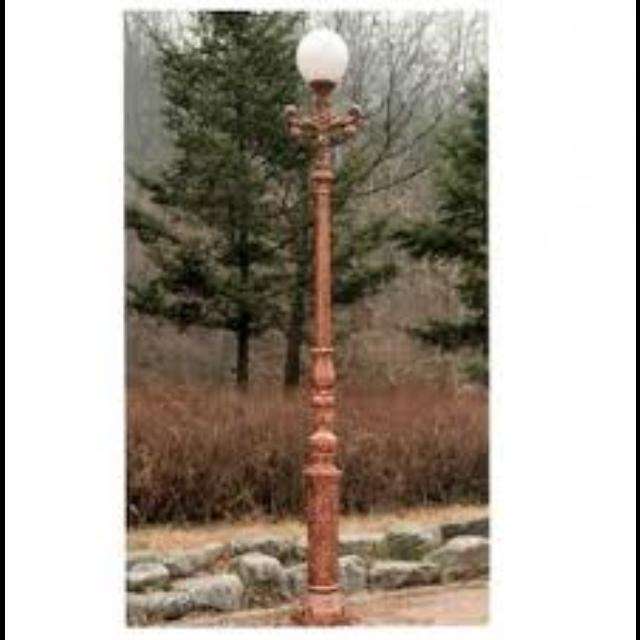Street-Lamp: (277, 18, 378, 640)
